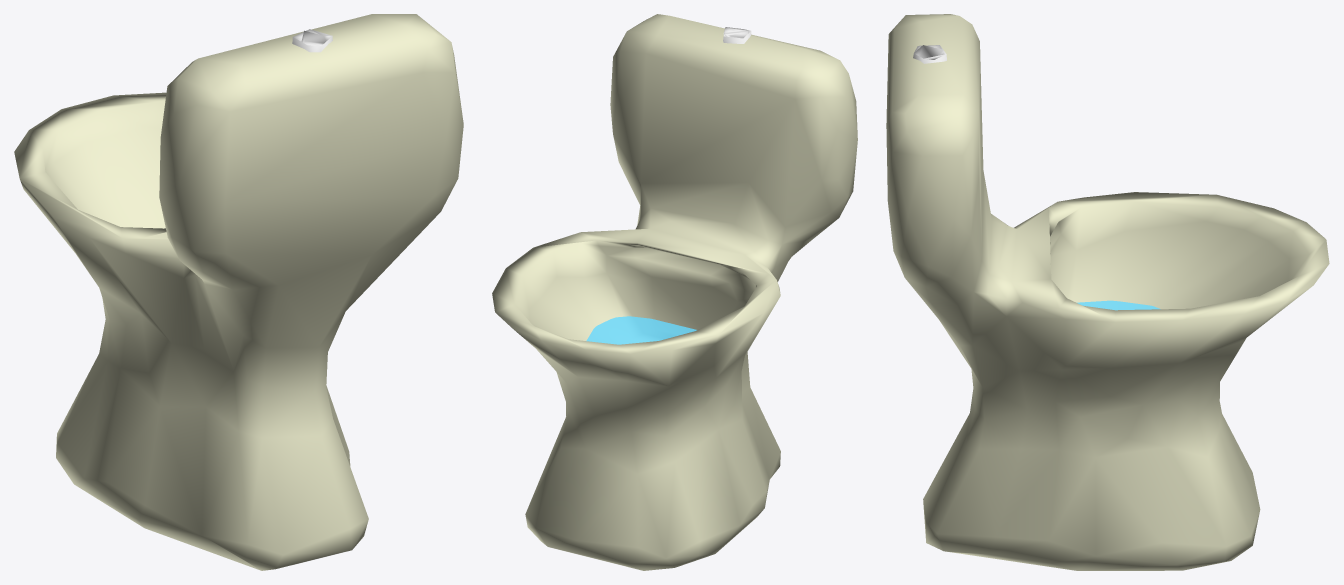
Rendered from toilet.fbx.
The picture shows the model from 3 angles, left to right: view 1: azimuth 30°, elevation 25°; view 2: azimuth 150°, elevation 25°; view 3: azimuth 270°, elevation 25°; orthographic projection. The views are drawn at different scales.
Parts seen in each view (by area): view 1: Cylinder; view 2: Cylinder; view 3: Cylinder.
Boxes of the visible parts, x1,y1,x2,y2 form: Cylinder: (14,14,463,570); Cylinder: (492,14,857,570); Cylinder: (886,14,1329,570).
Size of the model in its own units: 308 by 534 by 441.
